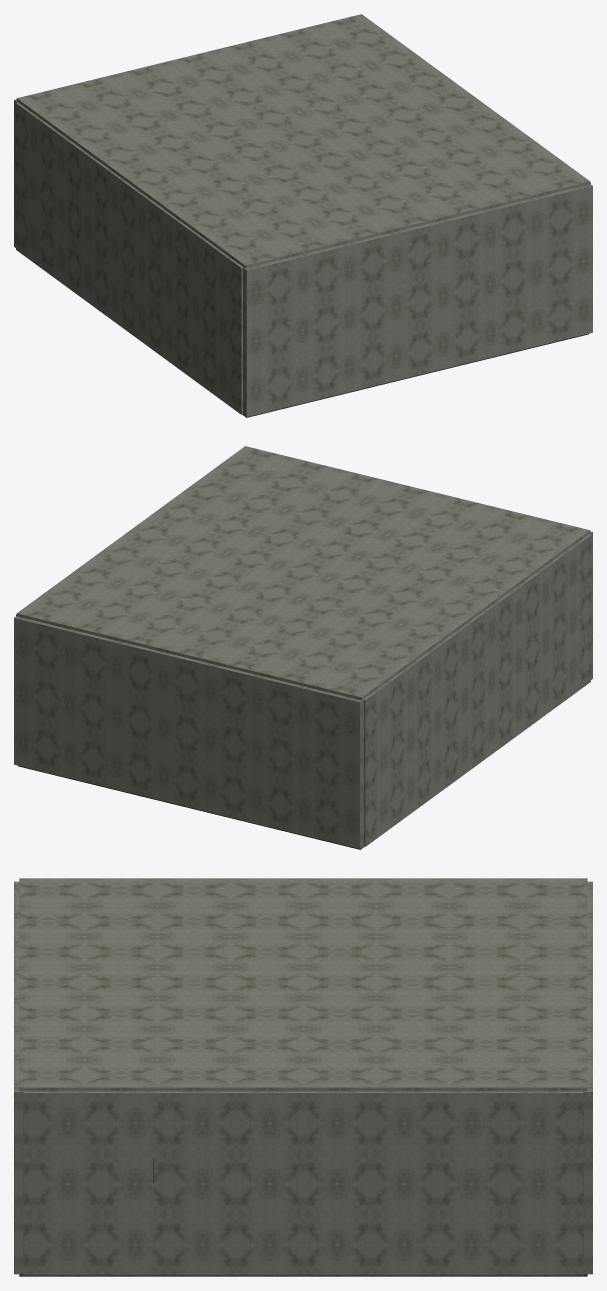
Rendered from courtroom.glb.
The picture shows the model from 3 angles, top to bottom: view 1: azimuth 30°, elevation 25°; view 2: azimuth 150°, elevation 25°; view 3: azimuth 270°, elevation 25°; orthographic projection. The views are drawn at different scales.
Parts seen in each view (by area): view 1: ENV_WALL_AGED, ENV_CEILING_SMOKE_STAINED; view 2: ENV_WALL_AGED, ENV_CEILING_SMOKE_STAINED; view 3: ENV_CEILING_SMOKE_STAINED, ENV_WALL_AGED, ENV_FLOOR_WORN.
Boxes of the visible parts, x1=… form: ENV_WALL_AGED: x1=14, y1=99, x2=592, y2=416; ENV_CEILING_SMOKE_STAINED: x1=16, y1=14, x2=590, y2=268; ENV_WALL_AGED: x1=14, y1=531, x2=592, y2=848; ENV_CEILING_SMOKE_STAINED: x1=16, y1=446, x2=590, y2=700; ENV_CEILING_SMOKE_STAINED: x1=19, y1=878, x2=587, y2=1091; ENV_WALL_AGED: x1=14, y1=881, x2=592, y2=1275; ENV_FLOOR_WORN: x1=19, y1=1274, x2=587, y2=1276.
Size of the model in its own units: 13.37 by 5.46 by 15.08.
Materials: 24 (9 with a texture image).
